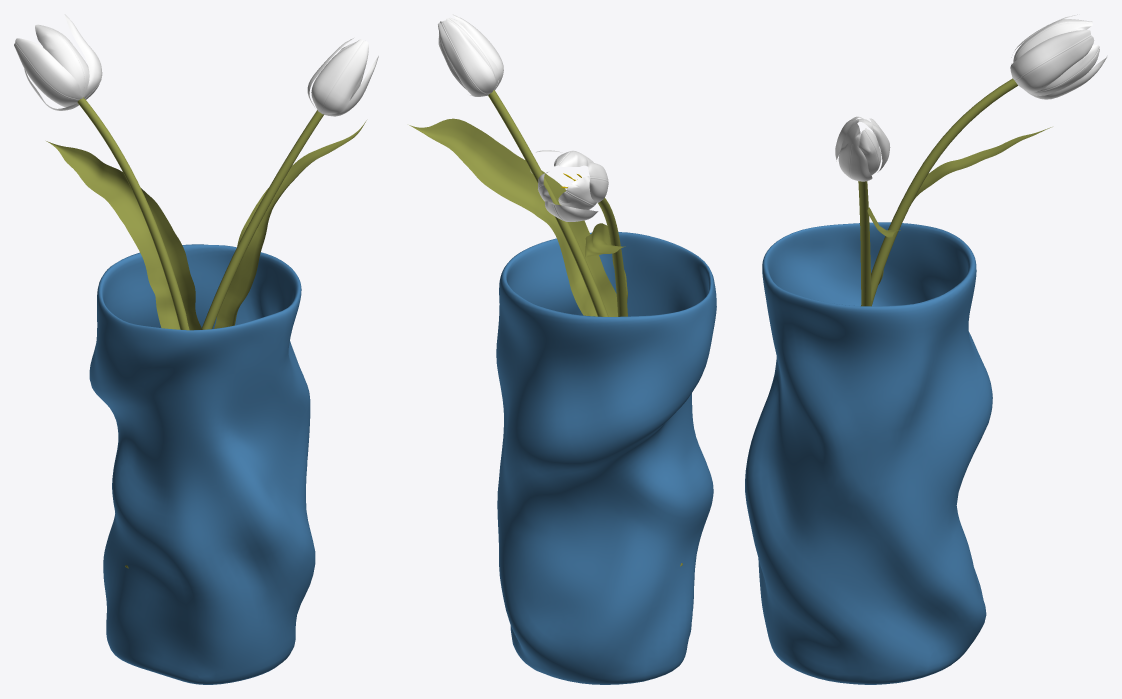
Rendered from bouquet_1734811154272.glb.
3 renders of one model, left to right at view 1: azimuth 30°, elevation 25°; view 2: azimuth 150°, elevation 25°; view 3: azimuth 270°, elevation 25°, orthographic. The views are drawn at different scales.
Size of the model in its own units: 1.2 by 2.38 by 1.28.
